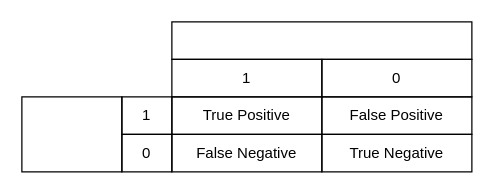
The diagram is 494 pixels wide and 194 high, and some of its shapes have lost their labels. Each missing label, with the box of its shape:
Actual label: (171, 21, 472, 59)
Predicted label: (21, 96, 122, 172)
